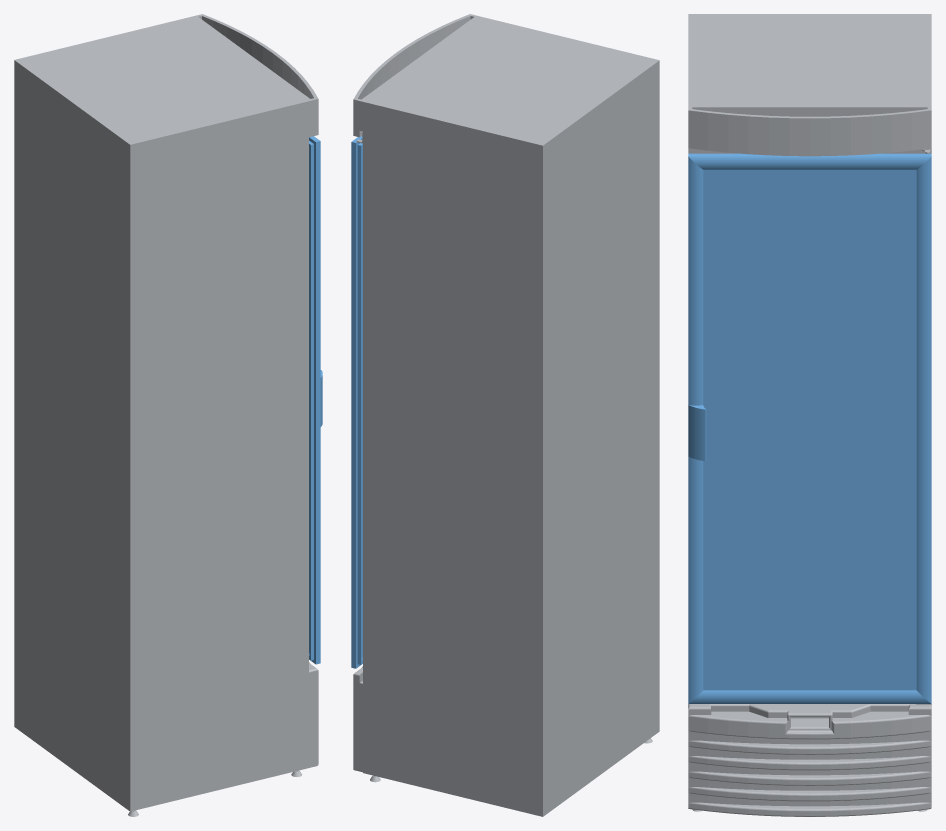
Rendered from parts.glb.
3 views of the same model, side by side, from view 1: azimuth 30°, elevation 25°; view 2: azimuth 150°, elevation 25°; view 3: azimuth 270°, elevation 25° (orthographic). The views are drawn at different scales.
Visible parts, largest first — view 1: visual_0_0, visual_1_0; view 2: visual_0_0, visual_1_0; view 3: visual_1_0, visual_0_0.
Part boxes in pixels (x1,y1,x2,y2): visual_0_0: [14, 14, 318, 816]; visual_1_0: [309, 136, 322, 664]; visual_0_0: [353, 14, 659, 816]; visual_1_0: [351, 136, 362, 668]; visual_1_0: [688, 153, 931, 703]; visual_0_0: [688, 14, 931, 816].
Size of the model in its own units: 0.5903 by 1.87 by 0.5813.
